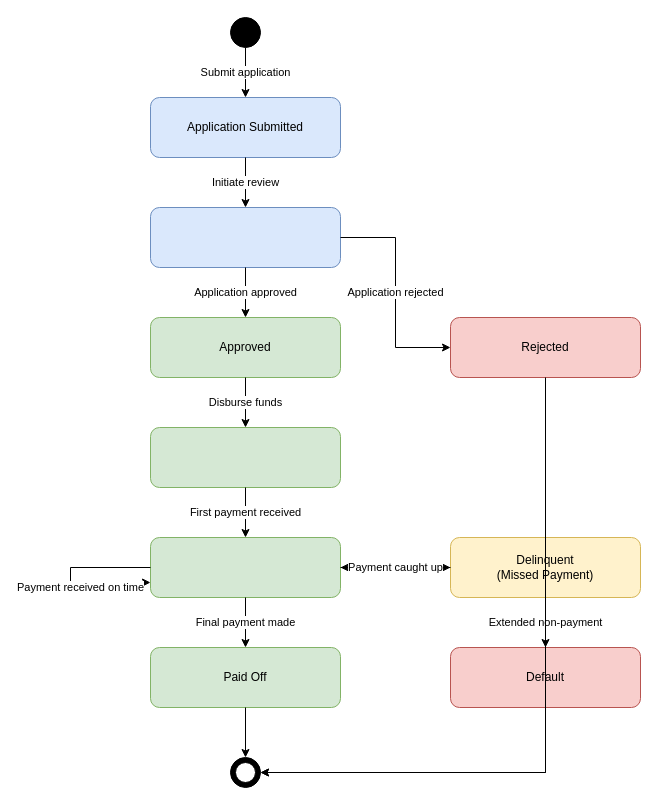
Image size: 658x805. Some labels were removed from this diagram. Here are the shapes that lost their labels. From the top down, the centre of each, then its label:
(x=245, y=237): Under Review
(x=245, y=457): Disbursed
(x=245, y=567): Active (Regular Payments)
